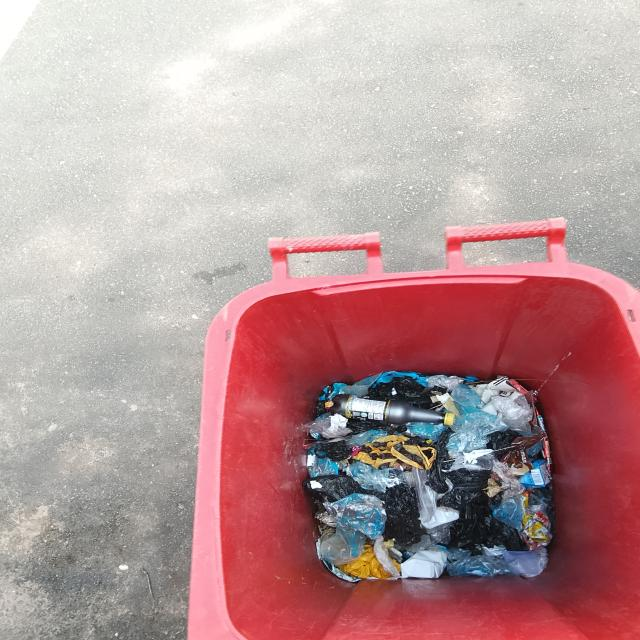half-full: (187, 257, 640, 640)
